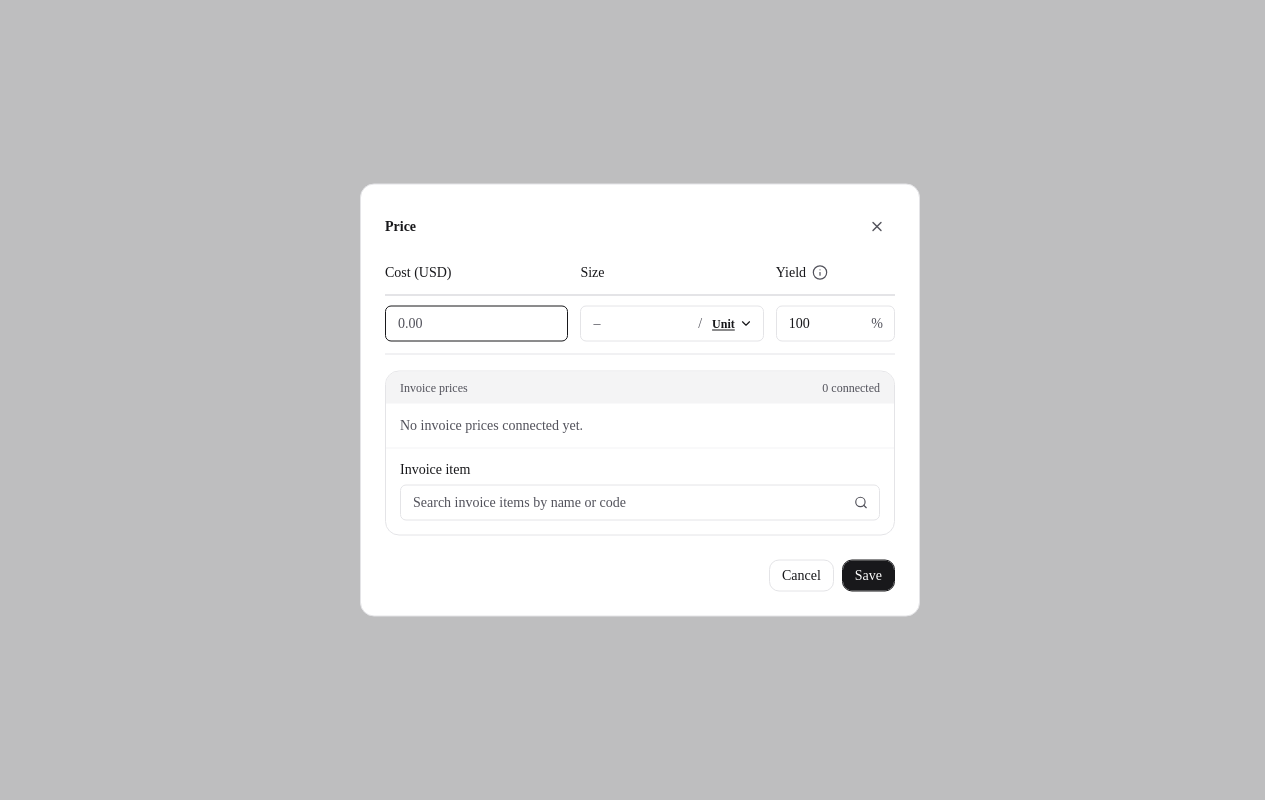
connecting an invoice line without a unit price › reads a line priced by the pound as one pound
Type "carrots" into the dropdown labelled "Invoice item".
click(640, 502); type("carrots")  # box [400,484,880,520]
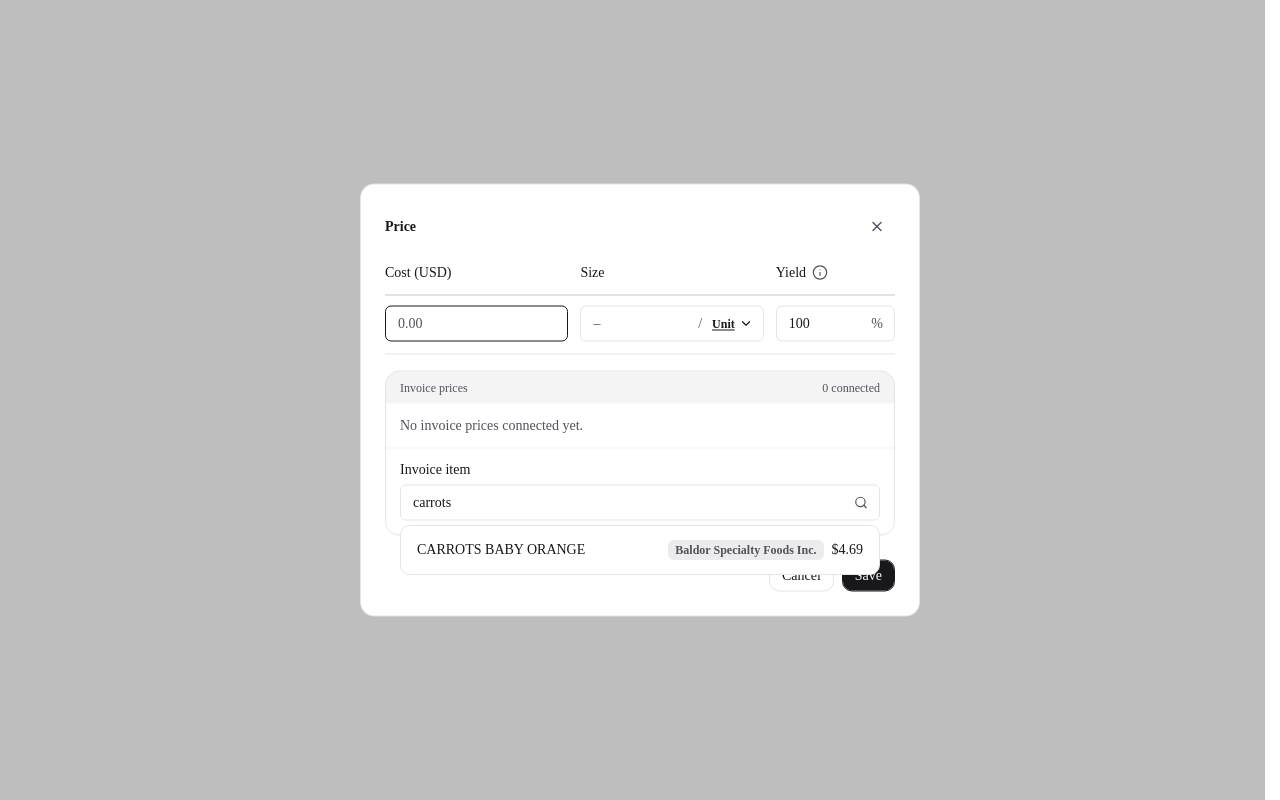
Click the option "CARROTS BABY ORANGE Baldor Specialty Foods Inc. $4.69".
click(501, 550)  # box [407,532,873,568]
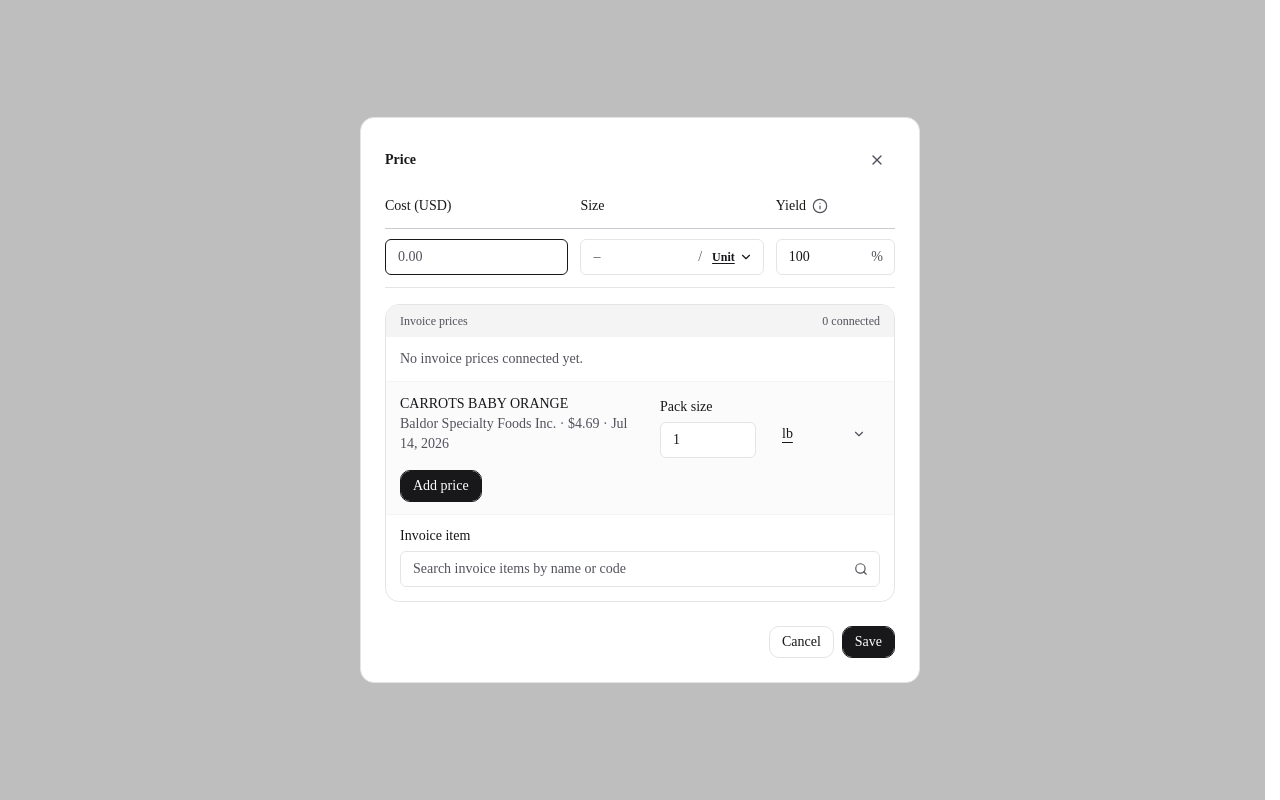
expect the button with aria-label "Pack unit" reads "lb": met, box [768,410,880,458]
expect the button "Add price" is enabled: met, box [400,470,482,502]
expect the text "$4.69" is shown: met, box [568,416,600,431]
